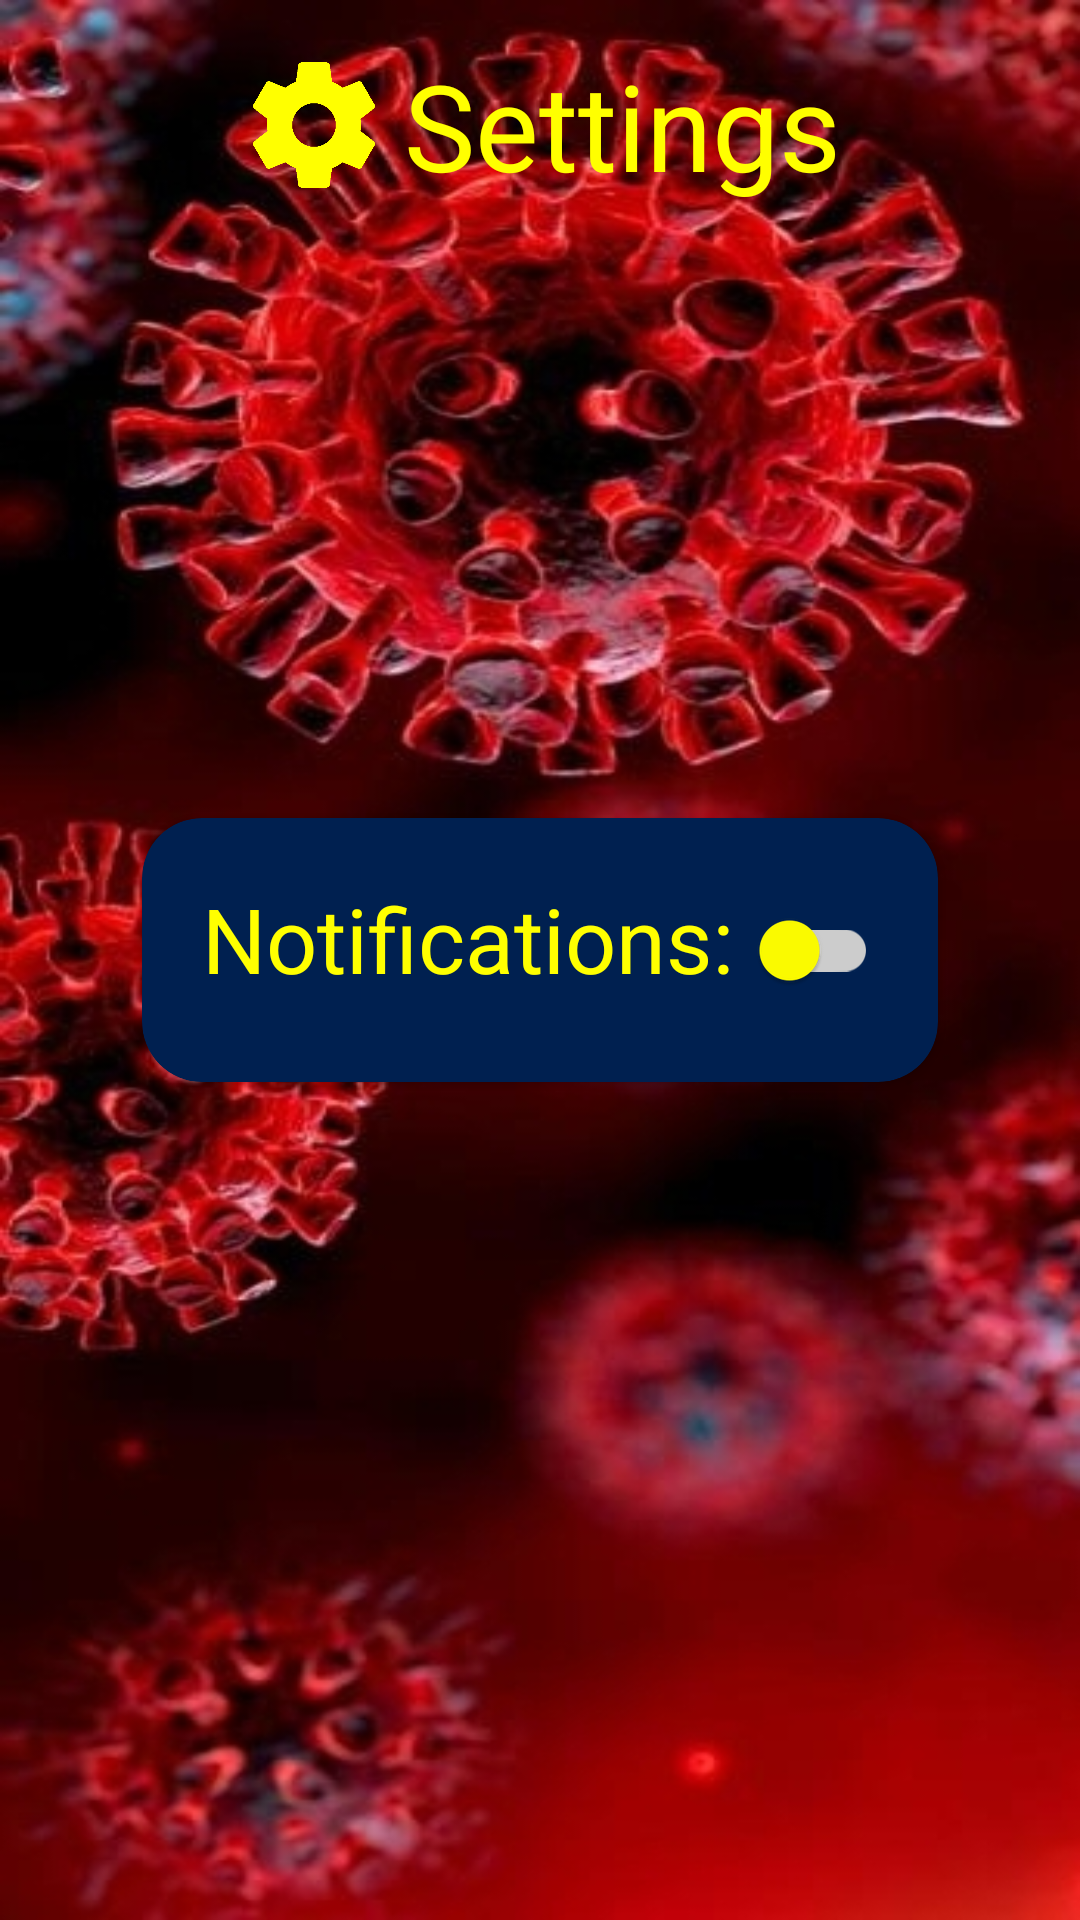

Where to tap for icons on this 1080 x 1920 app screen, as [x,y]:
gear: [314,125]
